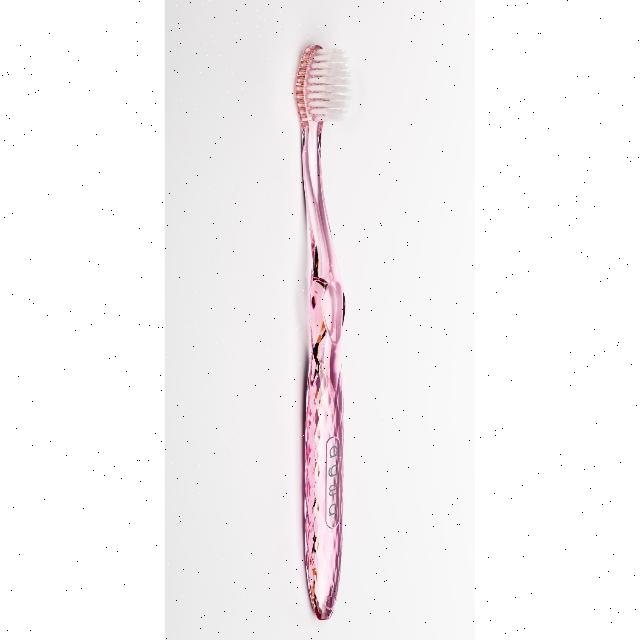toothbrush: (286, 38, 374, 628)
